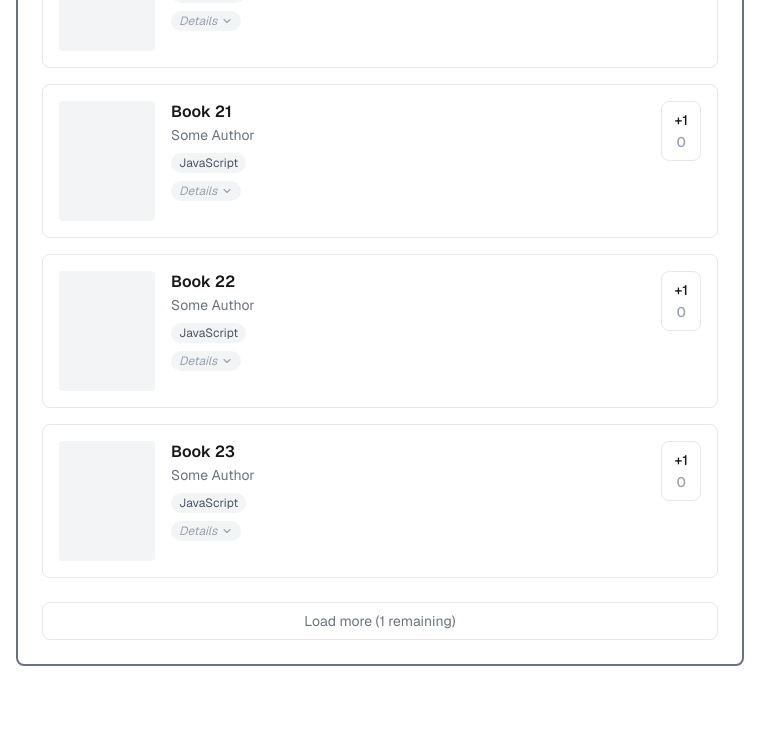
BookShelf › shows remaining books and removes the button after load more is clicked
The image size is (761, 730).
(page scrolled)
Step 1. Click the button "Load more (1 remaining)" → (380, 621), box [42, 602, 718, 640]
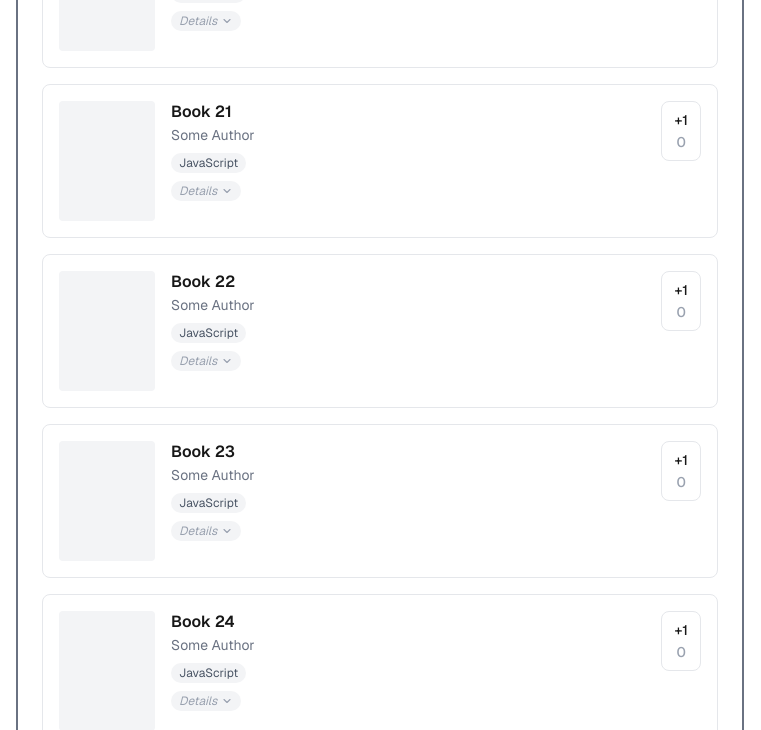
Expected: the button "Load more" is gone
